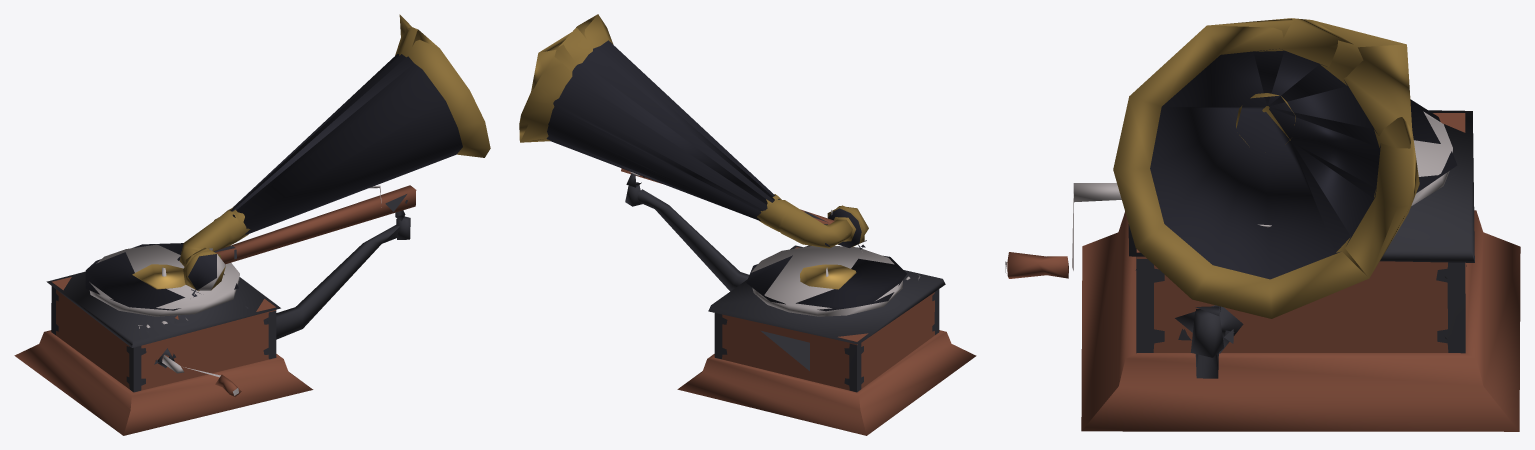
Rendered from Phonographo.fbx.
The picture shows the model from 3 angles, left to right: view 1: azimuth 30°, elevation 25°; view 2: azimuth 150°, elevation 25°; view 3: azimuth 270°, elevation 25°; orthographic projection. The views are drawn at different scales.
Visible parts, largest first — view 1: phone; view 2: phone; view 3: phone.
Boxes of the visible parts, left/top/right/bottom form: phone: left=14, top=14, right=490, bottom=435; phone: left=519, top=14, right=976, bottom=435; phone: left=1005, top=18, right=1520, bottom=431.
Bounding box in the file's own units: 123 × 85.49 × 69.94.
